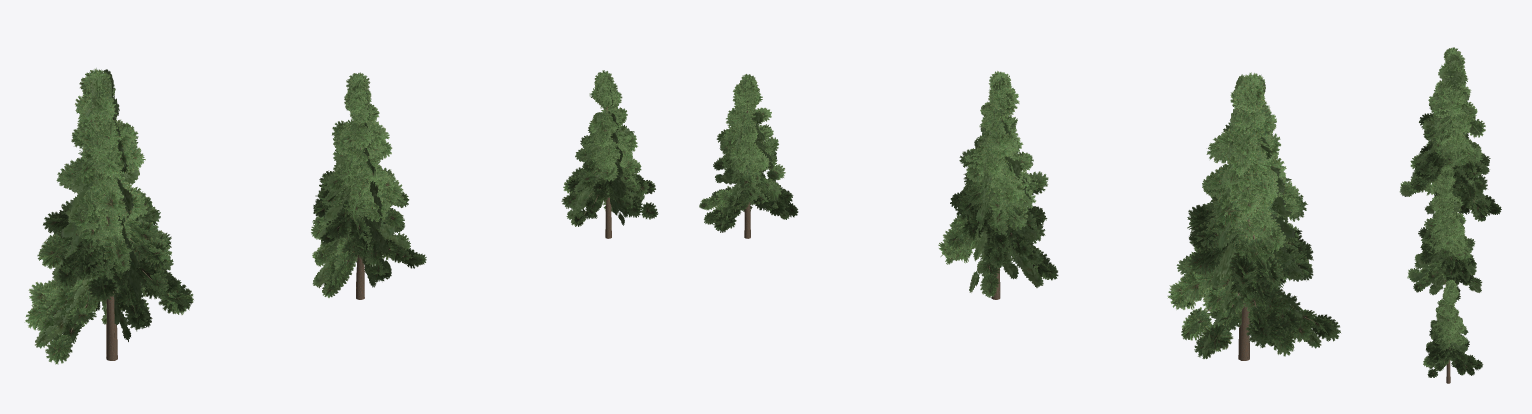
Rendered from tree_pine.glb.
3 renders of one model, left to right at view 1: azimuth 30°, elevation 25°; view 2: azimuth 150°, elevation 25°; view 3: azimuth 270°, elevation 25°, orthographic. The views are drawn at different scales.
Parts seen in each view (by area): view 1: pine_v0_LOD1_leaves, pine_v1_LOD1_leaves, pine_v0_LOD0_leaves, pine_v2_LOD1_leaves, pine_v1_LOD0_leaves, pine_v0_LOD2_impostor, pine_v2_LOD0_leaves, pine_v1_LOD2_impostor, pine_v2_LOD2_impostor; view 2: pine_v0_LOD1_leaves, pine_v0_LOD0_leaves, pine_v1_LOD1_leaves, pine_v1_LOD0_leaves, pine_v2_LOD1_leaves, pine_v0_LOD2_impostor, pine_v2_LOD0_leaves, pine_v1_LOD2_impostor, pine_v2_LOD2_impostor; view 3: pine_v0_LOD1_leaves, pine_v1_LOD1_leaves, pine_v0_LOD0_leaves, pine_v2_LOD1_leaves, pine_v1_LOD0_leaves, pine_v0_LOD2_impostor, pine_v2_LOD0_leaves, pine_v1_LOD2_impostor, pine_v2_LOD2_impostor.
Boxes of the visible parts, x1,y1,x2,y2 form: pine_v0_LOD1_leaves: (25,68,193,364); pine_v1_LOD1_leaves: (311,72,421,297); pine_v0_LOD0_leaves: (29,74,188,357); pine_v2_LOD1_leaves: (561,70,657,226); pine_v1_LOD0_leaves: (311,76,426,296); pine_v0_LOD2_impostor: (35,69,173,355); pine_v2_LOD0_leaves: (566,75,658,225); pine_v1_LOD2_impostor: (312,75,410,288); pine_v2_LOD2_impostor: (566,75,644,225); pine_v0_LOD1_leaves: (1167,72,1340,356); pine_v0_LOD0_leaves: (1174,79,1337,358); pine_v1_LOD1_leaves: (938,71,1058,295); pine_v1_LOD0_leaves: (942,74,1056,297); pine_v2_LOD1_leaves: (700,74,798,232); pine_v0_LOD2_impostor: (1170,74,1321,358); pine_v2_LOD0_leaves: (699,78,797,230); pine_v1_LOD2_impostor: (951,74,1043,292); pine_v2_LOD2_impostor: (711,75,789,230); pine_v0_LOD1_leaves: (1399,47,1496,217); pine_v1_LOD1_leaves: (1407,165,1482,301); pine_v0_LOD0_leaves: (1400,51,1501,221); pine_v2_LOD1_leaves: (1423,279,1483,377); pine_v1_LOD0_leaves: (1410,169,1481,299); pine_v0_LOD2_impostor: (1400,54,1500,214); pine_v2_LOD0_leaves: (1424,283,1479,377); pine_v1_LOD2_impostor: (1409,168,1481,295); pine_v2_LOD2_impostor: (1424,281,1477,368).
Size of the model in its own units: 31.35 by 14.05 by 9.35.
4 materials, 4 textured.
